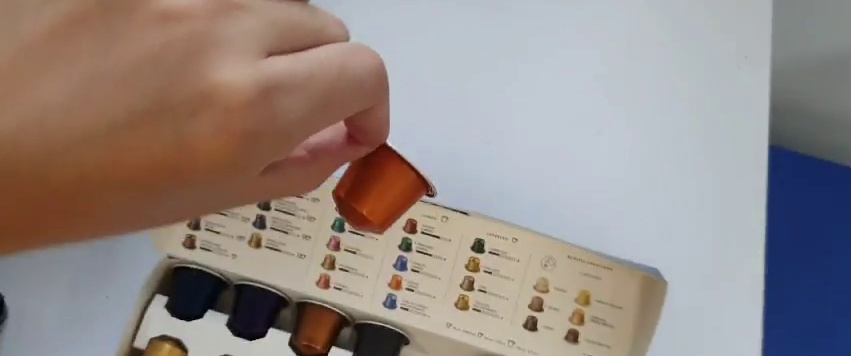capsule_5: (330, 132, 438, 239)
